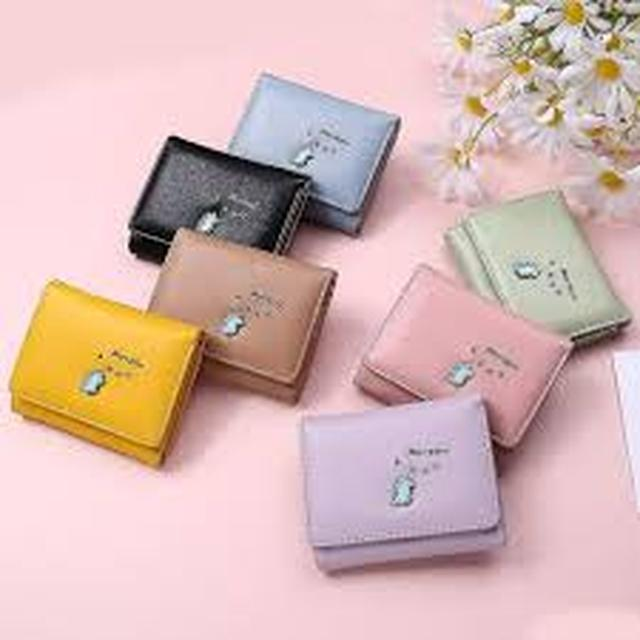wallet: (55, 116, 373, 256), (232, 401, 542, 535), (338, 281, 597, 437), (116, 226, 352, 389), (13, 276, 202, 475), (449, 177, 633, 357), (236, 59, 422, 219)
